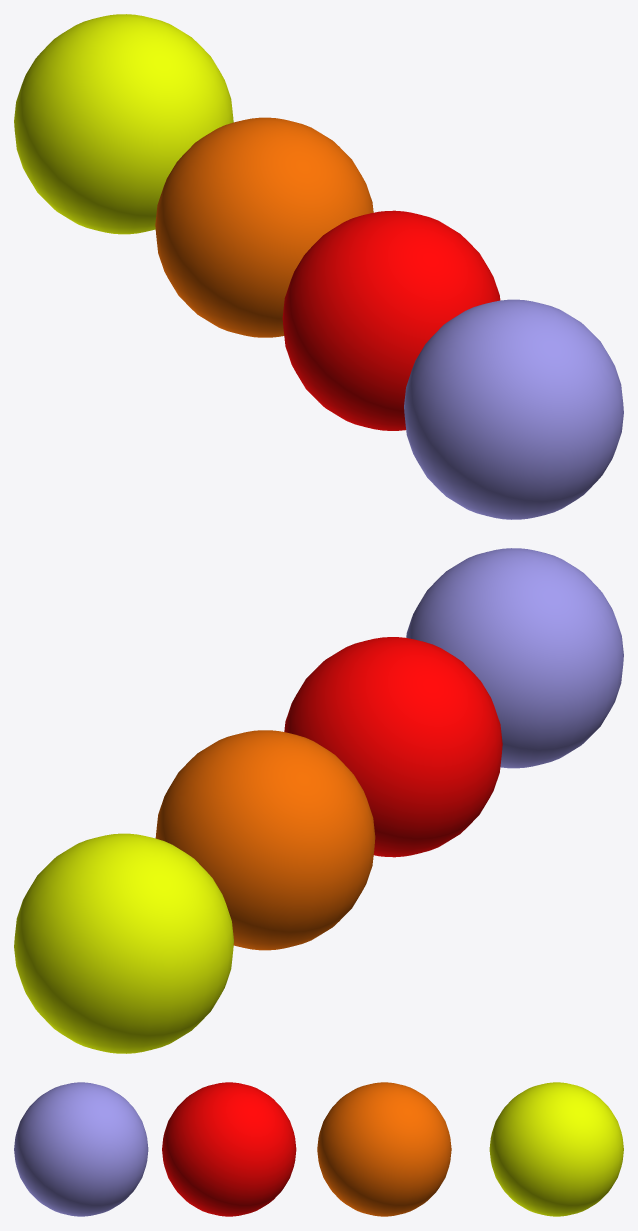
File: simple_006_Common_Profile_Material_00.dae
3 views of the same model, one above another, from view 1: azimuth 30°, elevation 25°; view 2: azimuth 150°, elevation 25°; view 3: azimuth 270°, elevation 25° (orthographic). The views are drawn at different scales.
Parts seen in each view (by area): view 1: Sphere04, Sphere01, Sphere02, Sphere03; view 2: Sphere01, Sphere02, Sphere03, Sphere04; view 3: Sphere03, Sphere01, Sphere04, Sphere02.
Part boxes in pixels (bbox=[...]): Sphere04: bbox=[404, 299, 623, 519]; Sphere01: bbox=[14, 14, 233, 234]; Sphere02: bbox=[155, 117, 373, 337]; Sphere03: bbox=[282, 210, 500, 430]; Sphere01: bbox=[14, 833, 233, 1053]; Sphere02: bbox=[155, 730, 375, 950]; Sphere03: bbox=[284, 637, 502, 857]; Sphere04: bbox=[406, 548, 623, 768]; Sphere03: bbox=[162, 1082, 296, 1216]; Sphere01: bbox=[489, 1082, 623, 1216]; Sphere04: bbox=[14, 1082, 148, 1216]; Sphere02: bbox=[317, 1082, 451, 1216].
Bounding box in the file's own units: 1665 × 7554 × 1665.
